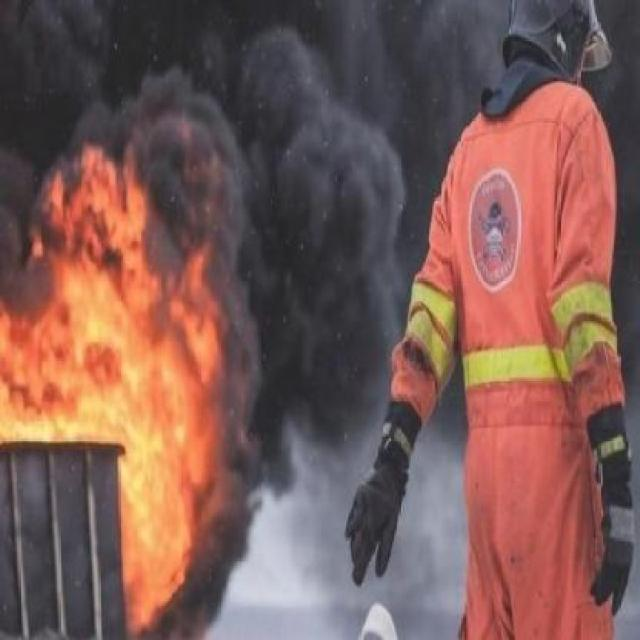Fire: (7, 186, 238, 637)
Smoke: (9, 4, 345, 165), (249, 192, 348, 504)
